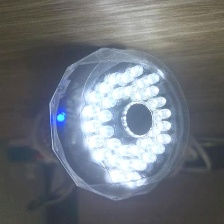light_bulb: (23, 38, 196, 207)
